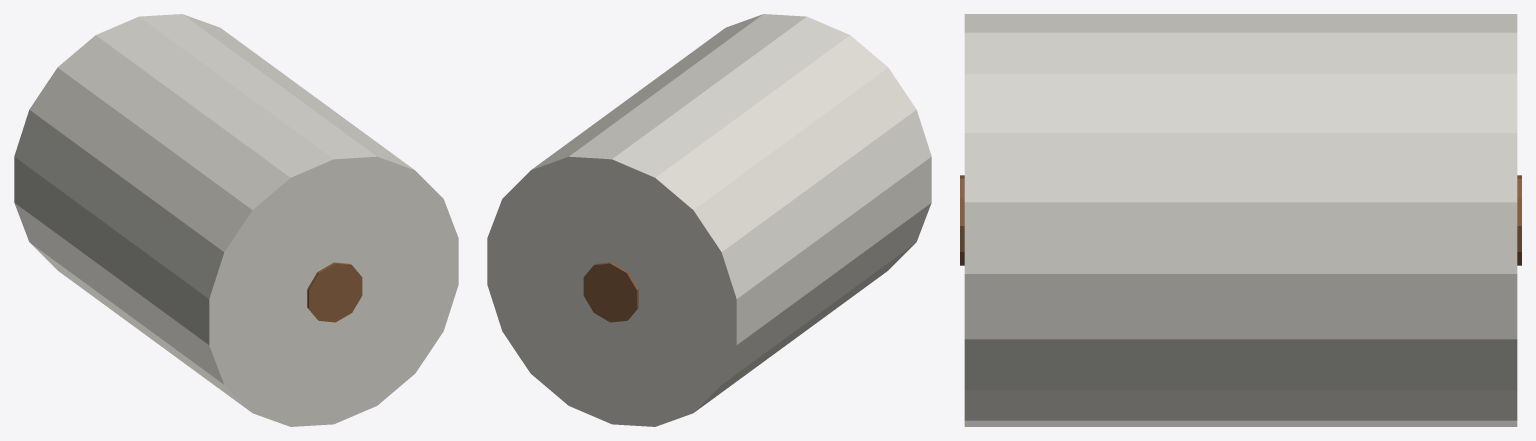
File: paper_roll.glb
3 renders of one model, left to right at view 1: azimuth 30°, elevation 25°; view 2: azimuth 150°, elevation 25°; view 3: azimuth 270°, elevation 25°, orthographic. The views are drawn at different scales.
Visible parts, largest first — view 1: roll_paper_white, core_roll_core; view 2: roll_paper_white, core_roll_core; view 3: roll_paper_white, core_roll_core.
Boxes of the visible parts, bbox=[...] form: roll_paper_white: bbox=[14, 14, 458, 426]; core_roll_core: bbox=[307, 262, 362, 322]; roll_paper_white: bbox=[487, 14, 931, 426]; core_roll_core: bbox=[583, 262, 638, 322]; roll_paper_white: bbox=[964, 14, 1517, 426]; core_roll_core: bbox=[960, 175, 1521, 265].
Bounding box in the file's own units: 0.8863 × 0.9 × 1.22.
